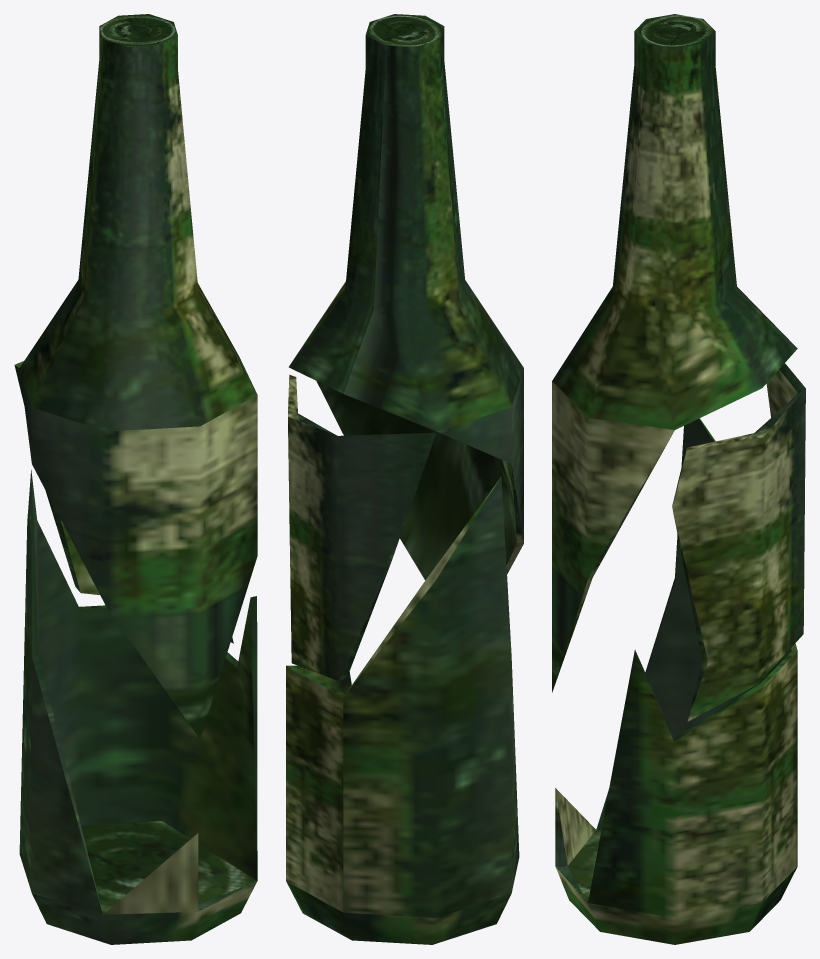
File: botella1_rota.fbx
3 renders of one model, left to right at view 1: azimuth 30°, elevation 25°; view 2: azimuth 150°, elevation 25°; view 3: azimuth 270°, elevation 25°, orthographic.
Parts seen in each view (by area): view 1: garbage_glassbottle003a_chunk01_reference, garbage_glassbottle003a_chunk03_reference, garbage_glassbottle003a_chunk02_reference; view 2: garbage_glassbottle003a_chunk03_reference, garbage_glassbottle003a_chunk01_reference, garbage_glassbottle003a_chunk02_reference; view 3: garbage_glassbottle003a_chunk01_reference, garbage_glassbottle003a_chunk03_reference, garbage_glassbottle003a_chunk02_reference.
Part boxes in pixels (x1,y1,x2,y2): garbage_glassbottle003a_chunk01_reference: (19, 14, 257, 738); garbage_glassbottle003a_chunk03_reference: (19, 470, 257, 944); garbage_glassbottle003a_chunk02_reference: (14, 361, 233, 643); garbage_glassbottle003a_chunk03_reference: (286, 476, 519, 944); garbage_glassbottle003a_chunk01_reference: (289, 14, 523, 580); garbage_glassbottle003a_chunk02_reference: (288, 374, 436, 680); garbage_glassbottle003a_chunk01_reference: (552, 14, 797, 692); garbage_glassbottle003a_chunk03_reference: (555, 418, 797, 944); garbage_glassbottle003a_chunk02_reference: (672, 363, 805, 721).
Bounding box in the file's own units: 429 × 1609 × 426.
